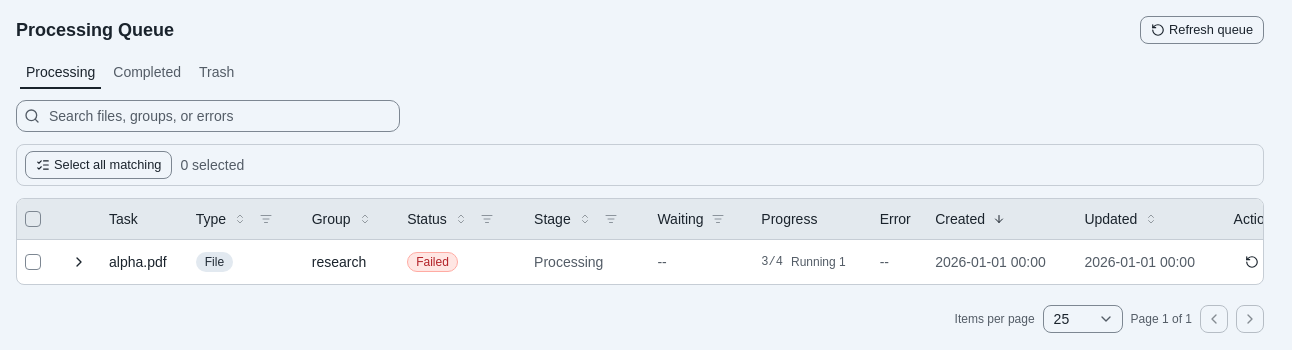
Test: ProcessingQueuePage › captures every matching task with the explicit select-all control
Expected: the text "alpha.pdf" is shown, [109,254,167,270]
Click the button "Select all matching". click: (99,165)
box: [25,151,172,179]
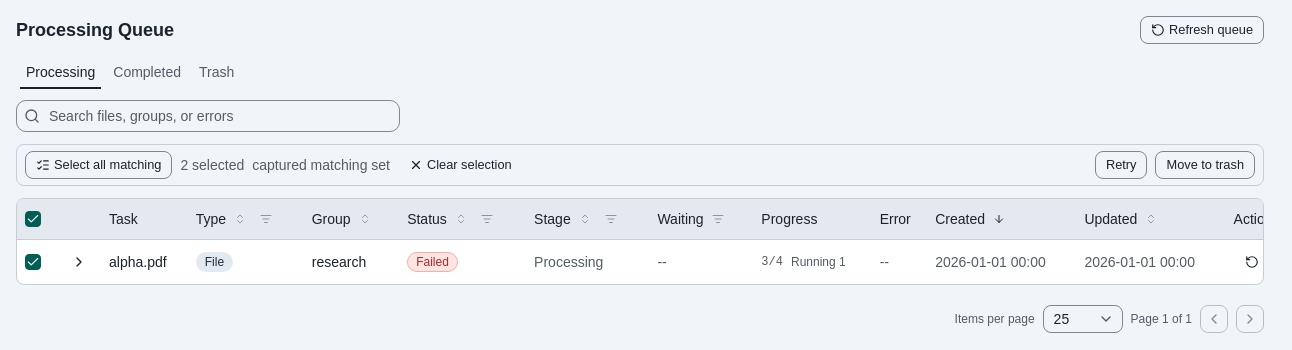
Expected: the text with test id "queue-selection-count" reads "2 selected", [180,157,244,173]
Expected: the text "captured matching set" is shown, [252,155,390,175]
